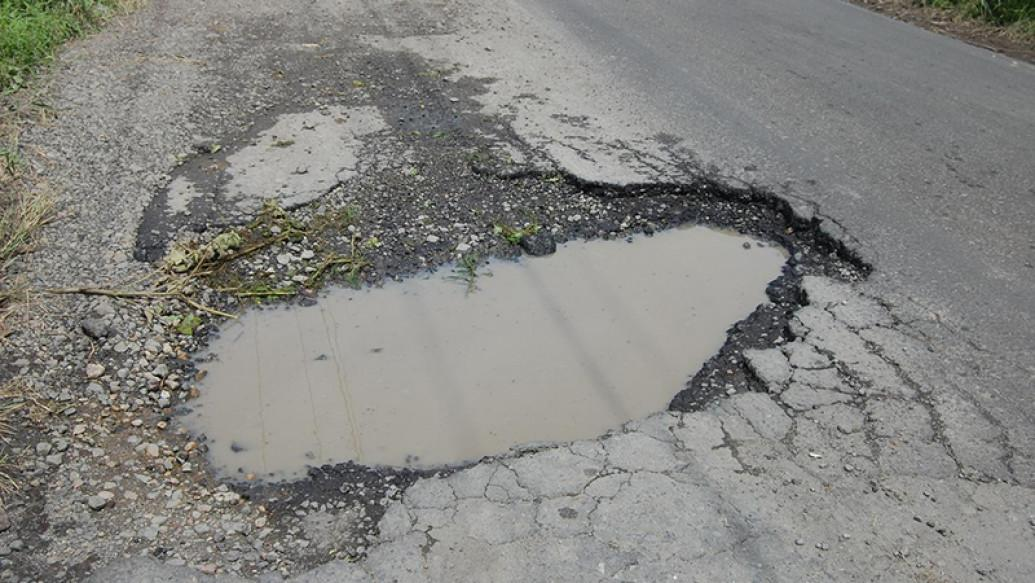Pothole: (81, 111, 1006, 499)
